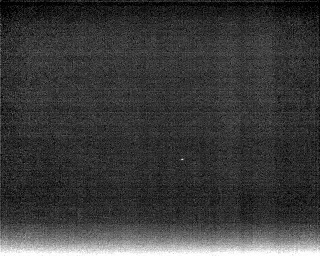BIRD: (179, 155, 186, 164)
